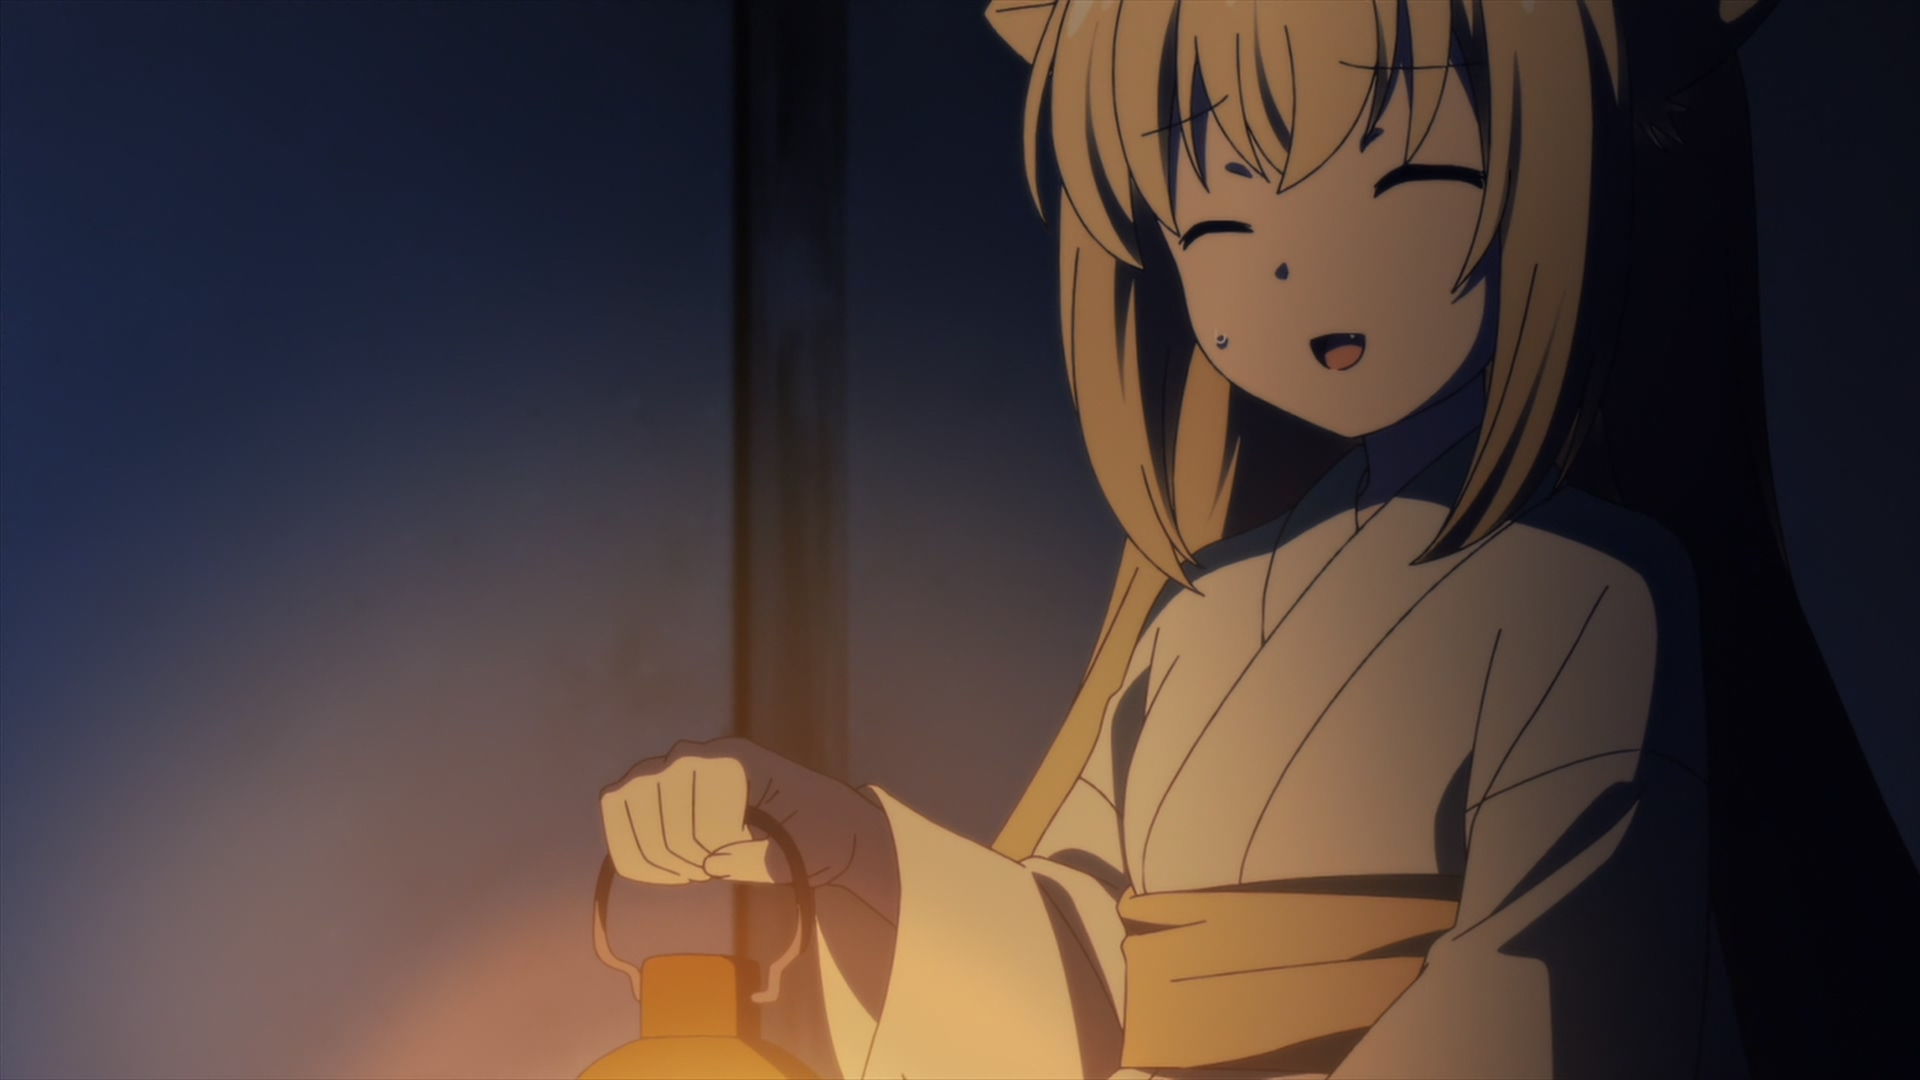柚: (597, 1, 1920, 1080)
